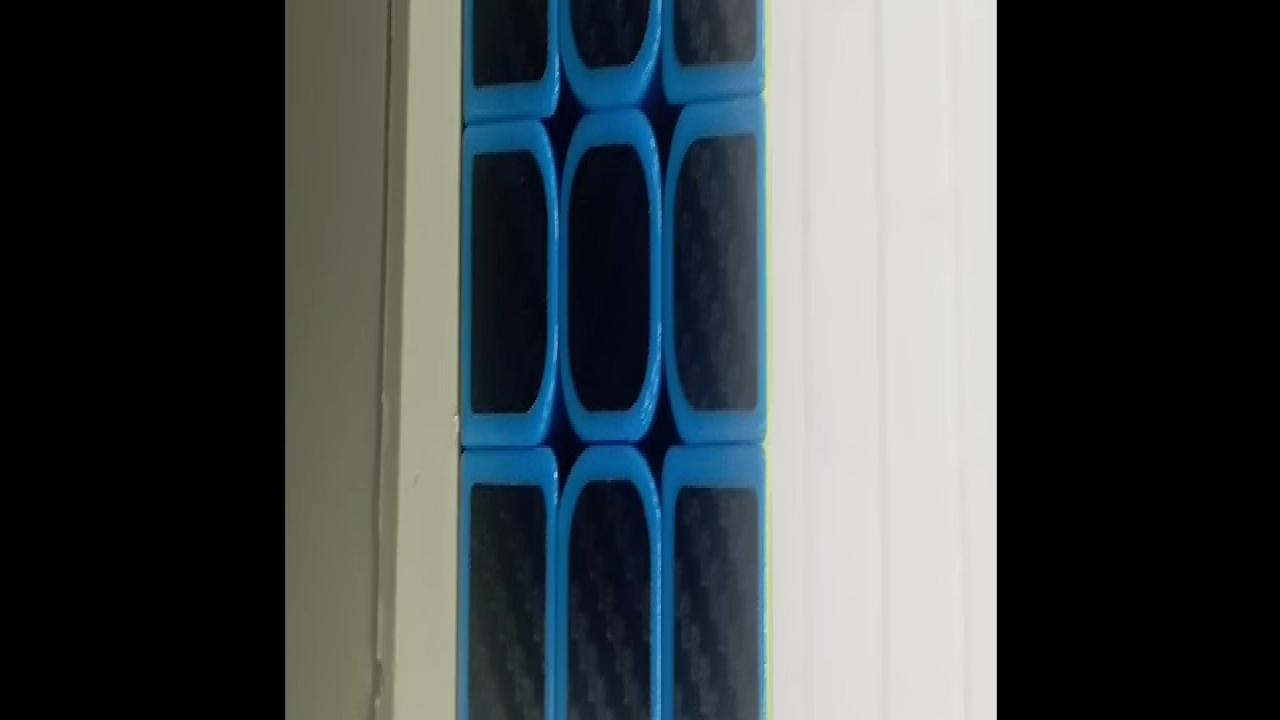Cube: (456, 0, 771, 720)
